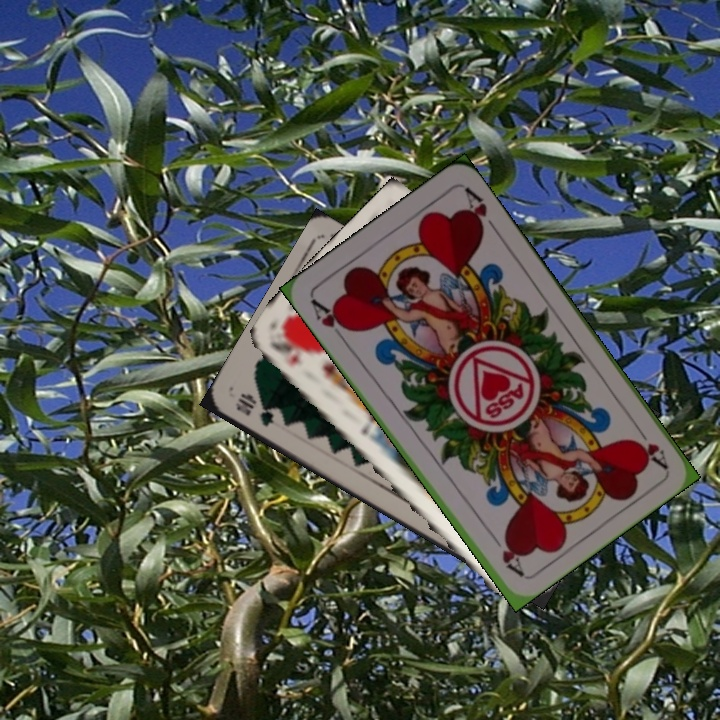G10: (231, 389, 277, 430)
HA: (306, 294, 352, 345), (630, 419, 671, 471)
HK: (265, 337, 306, 369)
